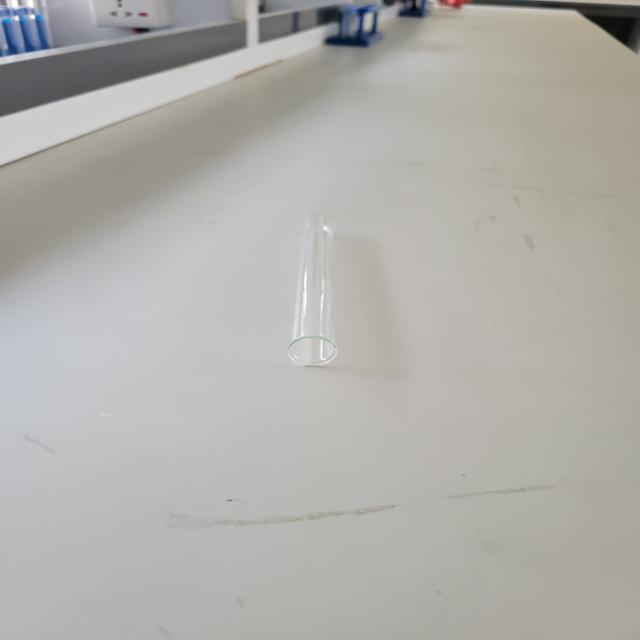Test_Tube: (233, 178, 379, 394)
